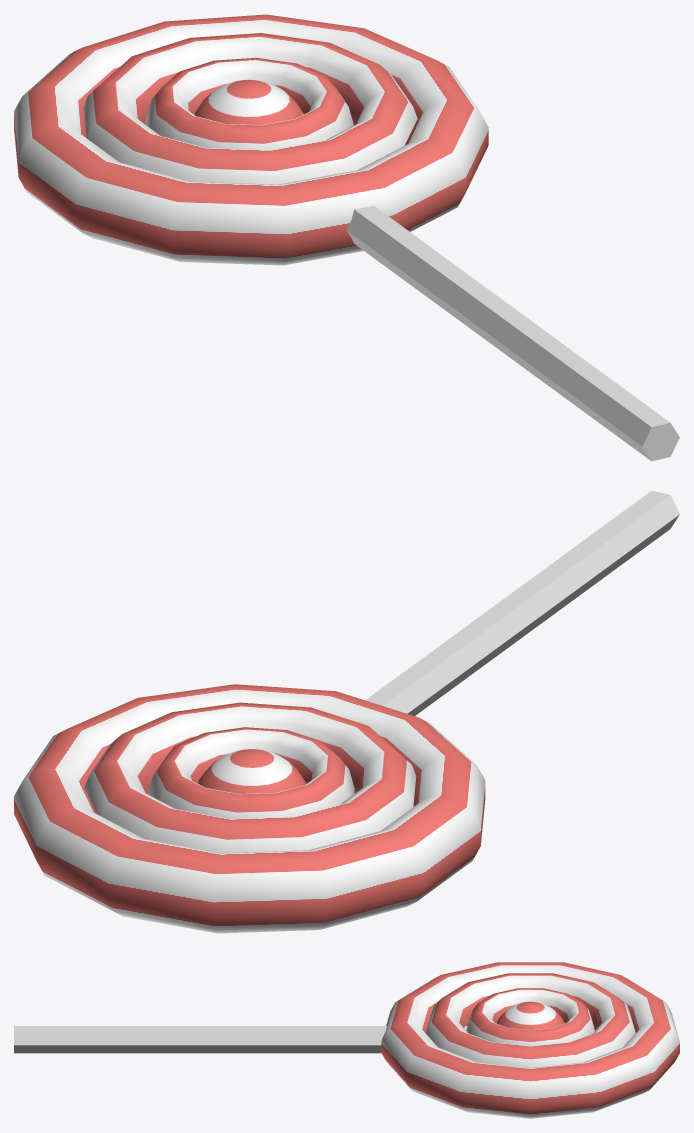
File: lollipop_orange.fbx
3 renders of one model, top to bottom at view 1: azimuth 30°, elevation 25°; view 2: azimuth 150°, elevation 25°; view 3: azimuth 270°, elevation 25°, orthographic. The views are drawn at different scales.
Parts seen in each view (by area): view 1: pasted__pTorus1, pasted__pTorus2, pasted__pCylinder1, pasted__pTorus3, pasted__pSphere1; view 2: pasted__pTorus1, pasted__pTorus2, pasted__pCylinder1, pasted__pTorus3, pasted__pSphere1; view 3: pasted__pTorus1, pasted__pCylinder1, pasted__pTorus2, pasted__pTorus3, pasted__pSphere1.
Part boxes in pixels (bbox=[...]): pasted__pTorus1: bbox=[14, 14, 488, 265]; pasted__pTorus2: bbox=[83, 33, 417, 184]; pasted__pCylinder1: bbox=[346, 206, 679, 461]; pasted__pTorus3: bbox=[145, 57, 353, 150]; pasted__pSphere1: bbox=[194, 79, 303, 124]; pasted__pTorus1: bbox=[14, 684, 485, 933]; pasted__pTorus2: bbox=[84, 702, 416, 853]; pasted__pCylinder1: bbox=[365, 490, 679, 715]; pasted__pTorus3: bbox=[148, 727, 354, 818]; pasted__pSphere1: bbox=[197, 749, 306, 793]; pasted__pTorus1: bbox=[381, 962, 679, 1118]; pasted__pCylinder1: bbox=[14, 1026, 467, 1053]; pasted__pTorus2: bbox=[425, 973, 635, 1067]; pasted__pTorus3: bbox=[466, 988, 594, 1046]; pasted__pSphere1: bbox=[496, 1001, 564, 1030].
Size of the model in its own units: 7.77 by 2 by 17.46.
2 materials, 1 textured.
